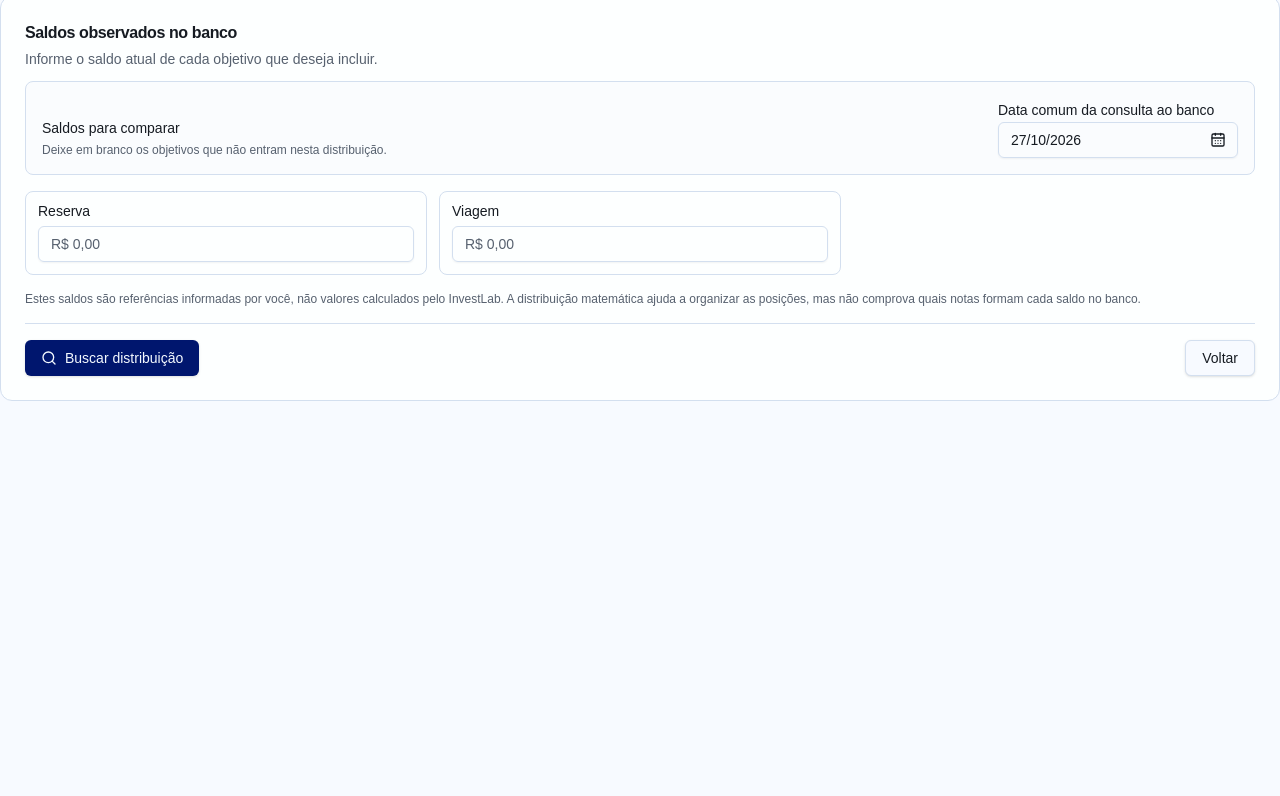
Test: PortfolioObjectiveOrganizer › shows when a partial candidate has no transfers
Type "10000" into the field labelled "Reserva".
click(226, 244); type("10000")  # box 38,226 -> 414,262
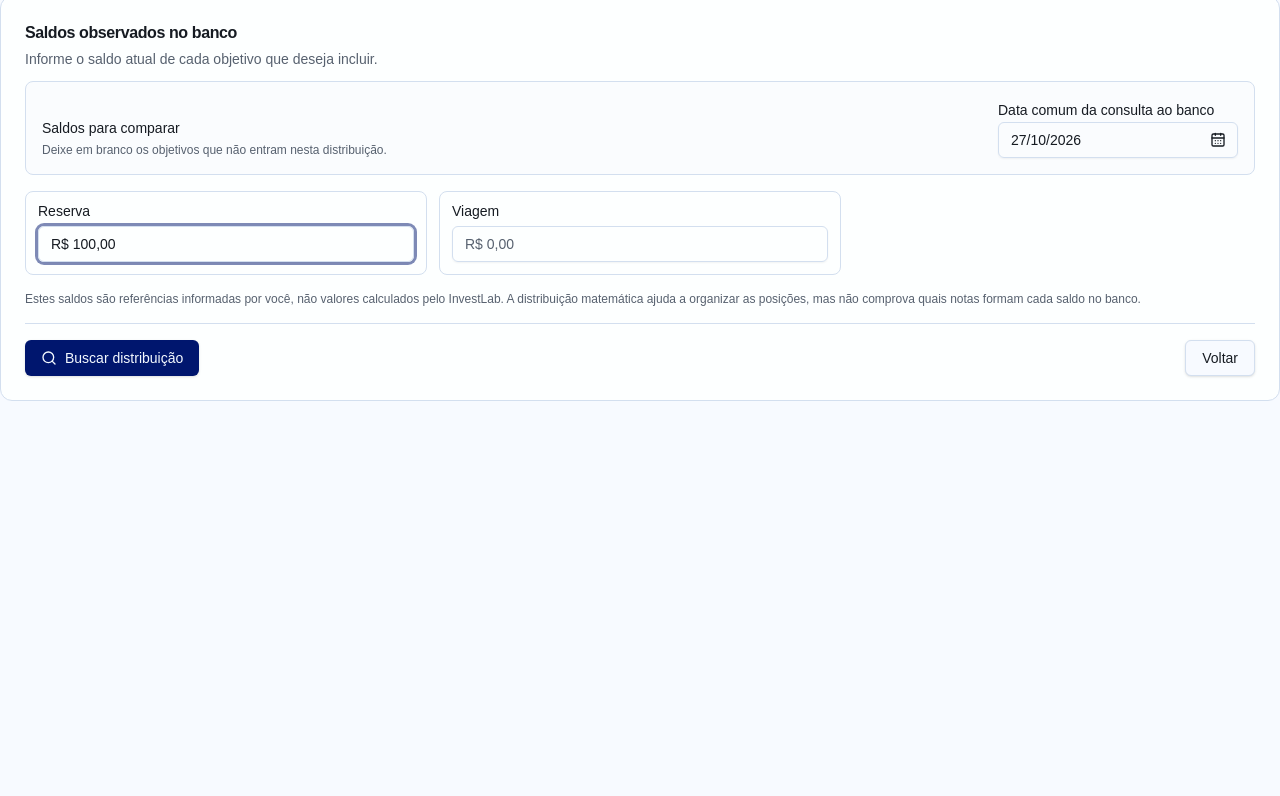
Click the button "Buscar distribuição".
click(112, 358)  # box 25,340 -> 199,376
(page scrolled)
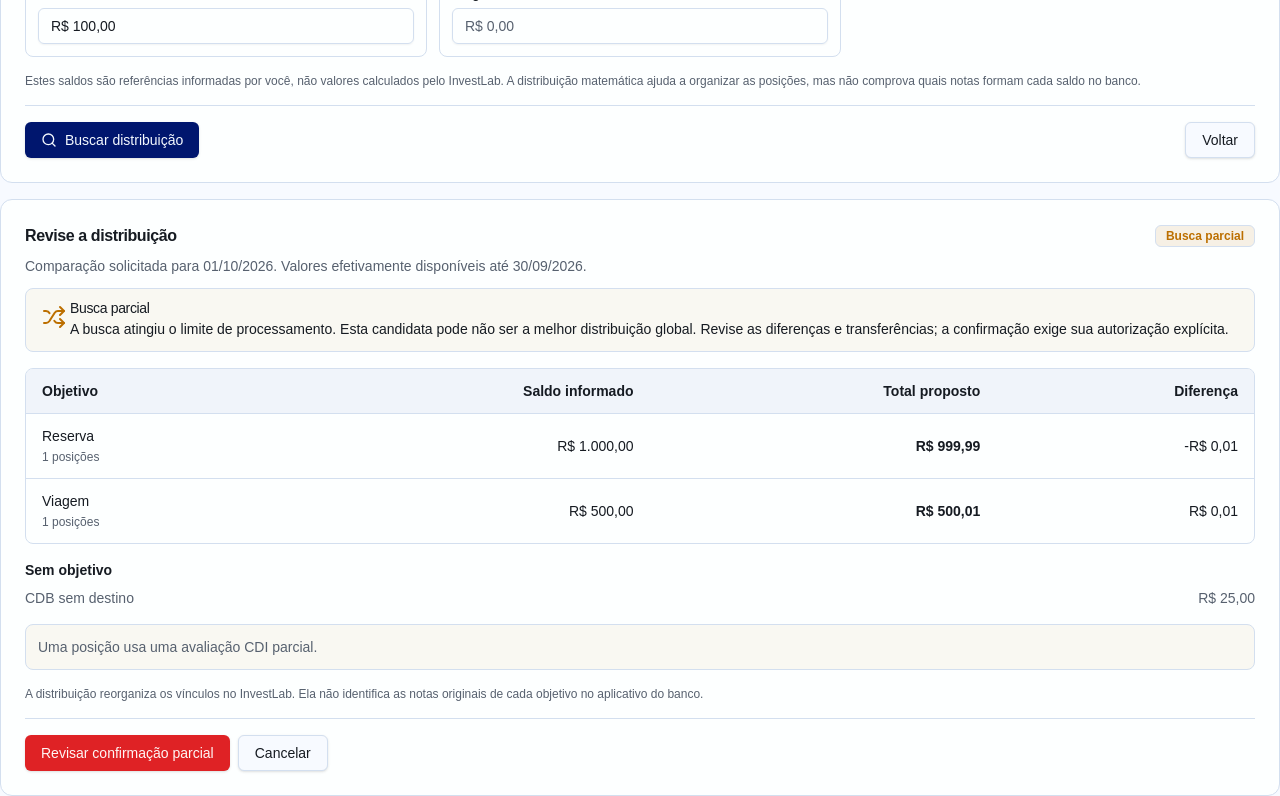
Check: the heading "Busca parcial" is shown, box 70,300 -> 150,316
Click the button "Revisar confirmação parcial".
click(127, 752)  # box 25,734 -> 230,770
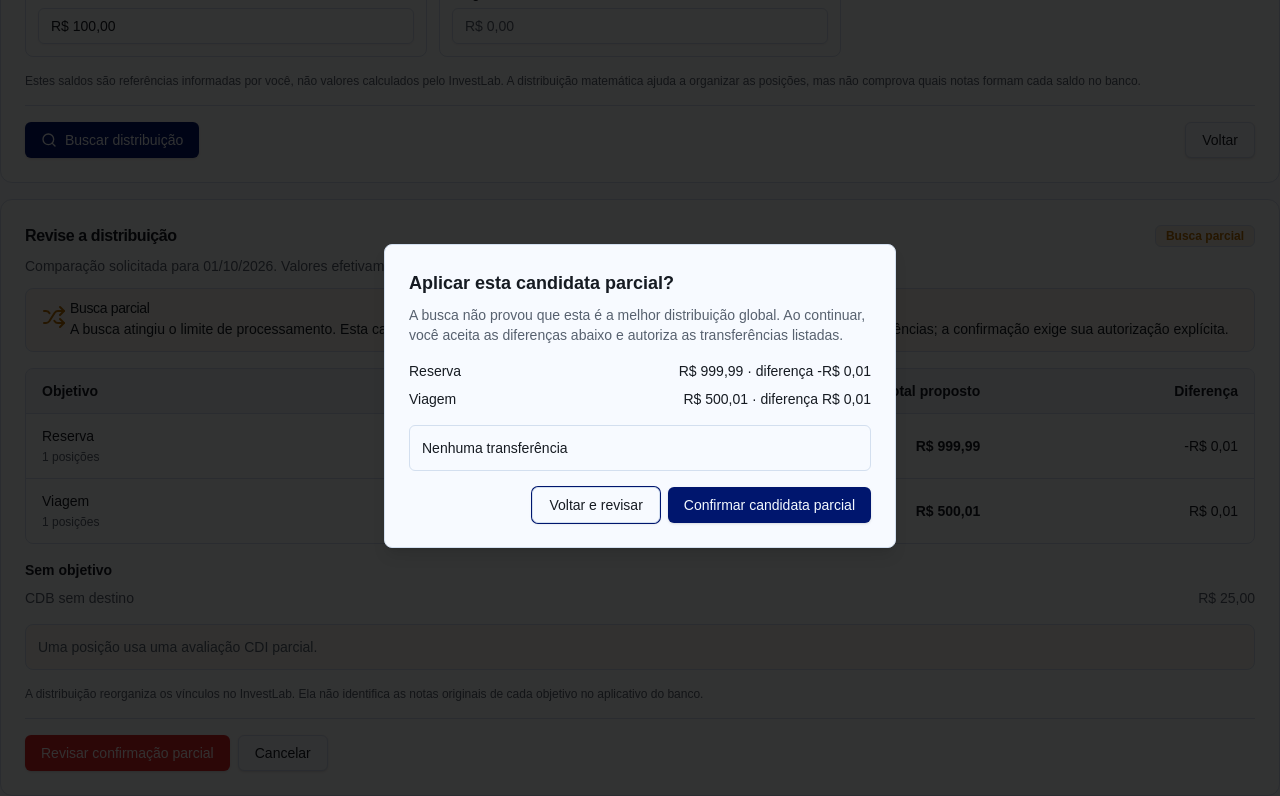
Check: the text "Nenhuma transferência" is shown, box 422,440 -> 568,456
